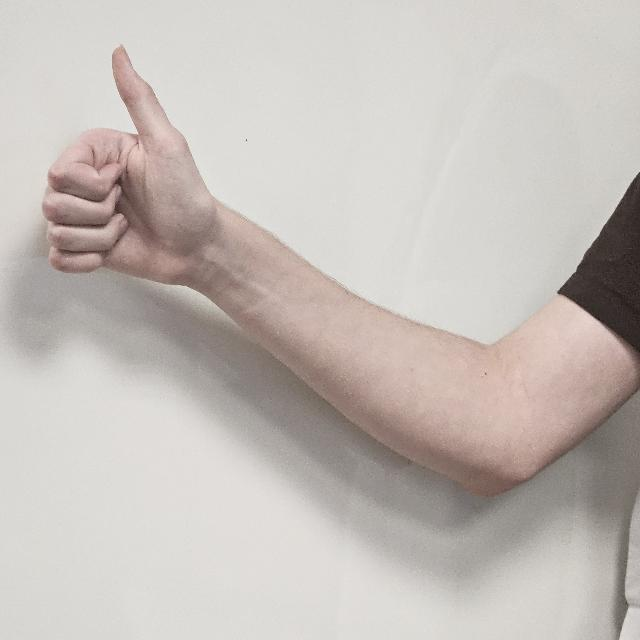Start: (39, 41, 214, 316)
